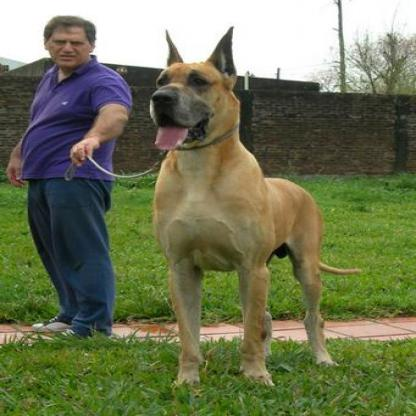Great_Dane: (145, 25, 361, 390)
